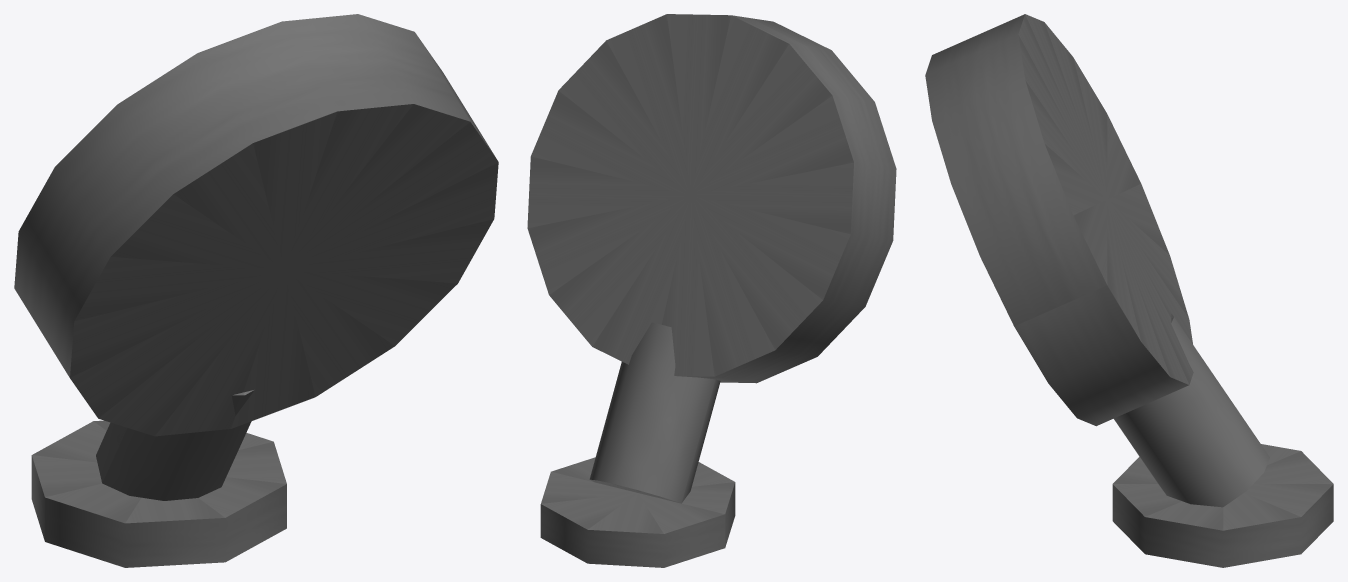
Rendered from mastarmcurve_8x2_c0_down.obj.
The picture shows the model from 3 angles, left to right: view 1: azimuth 30°, elevation 25°; view 2: azimuth 150°, elevation 25°; view 3: azimuth 270°, elevation 25°; orthographic projection. The views are drawn at different scales.
Visible parts, largest first — view 1: mastarm_8x2_c0_down; view 2: mastarm_8x2_c0_down; view 3: mastarm_8x2_c0_down.
Boxes of the visible parts, x1,y1,x2,y2 form: mastarm_8x2_c0_down: (14,14,498,567); mastarm_8x2_c0_down: (527,14,896,567); mastarm_8x2_c0_down: (925,14,1333,567).
Bounding box in the file's own units: 0.7343 × 0.9722 × 0.739.
